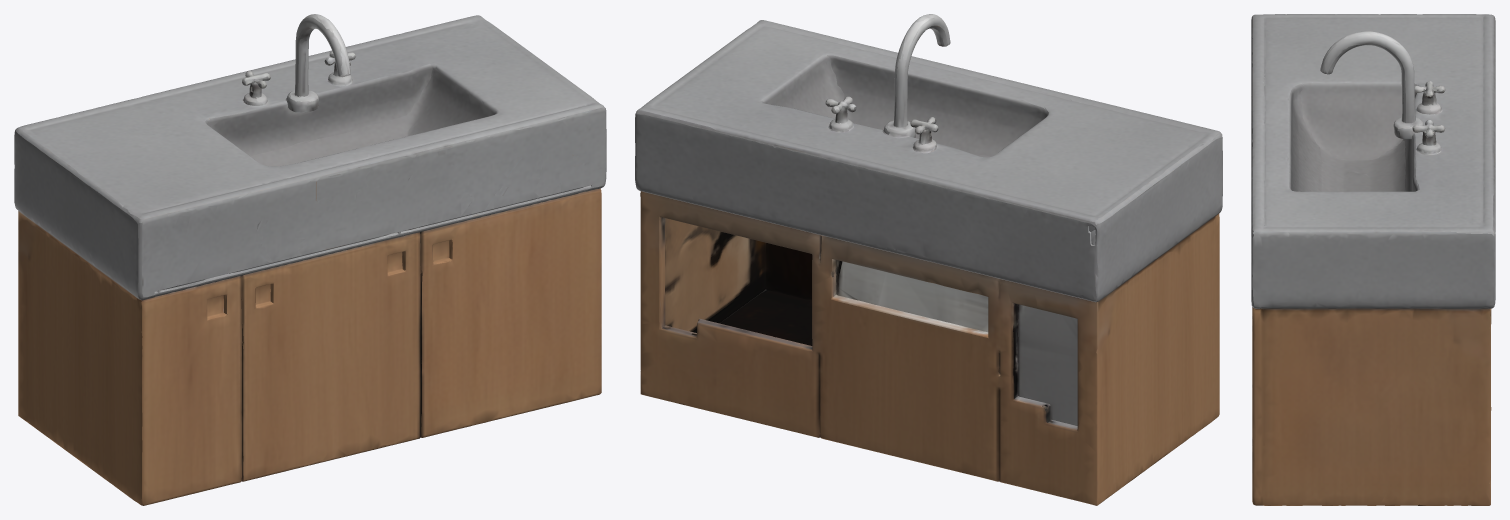
The model's file is item_659bbe3a.glb.
3 views of the same model, side by side, from view 1: azimuth 30°, elevation 25°; view 2: azimuth 150°, elevation 25°; view 3: azimuth 270°, elevation 25° (orthographic). The views are drawn at different scales.
Visible parts, largest first — view 1: world; view 2: world; view 3: world.
Part boxes in pixels (<box>): world: <box>14,14,606,505</box>; world: <box>635,14,1222,505</box>; world: <box>1251,14,1495,505</box>.
Size of the model in its own units: 1.2 by 0.9484 by 0.5651.
1 material, 1 textured.
